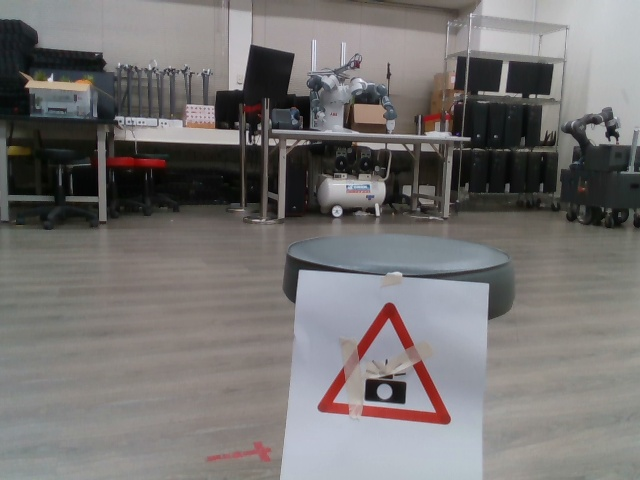camera: (313, 297, 460, 425)
